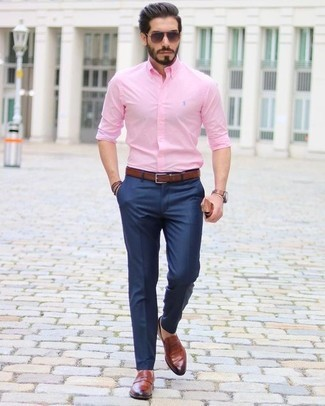F_belt: (120, 162, 208, 186)
F_dress pants: (111, 169, 207, 361)
F_shirt: (100, 59, 228, 193)
